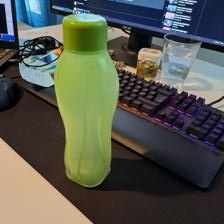bottle: (52, 10, 124, 188)
